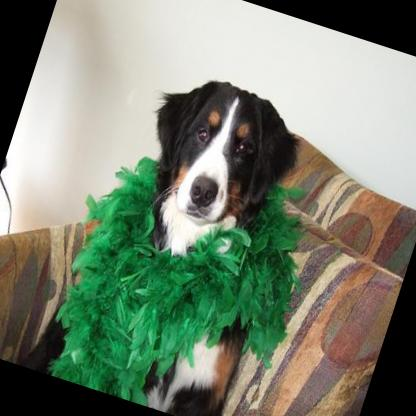Bernese_mountain_dog: (18, 47, 320, 416)
